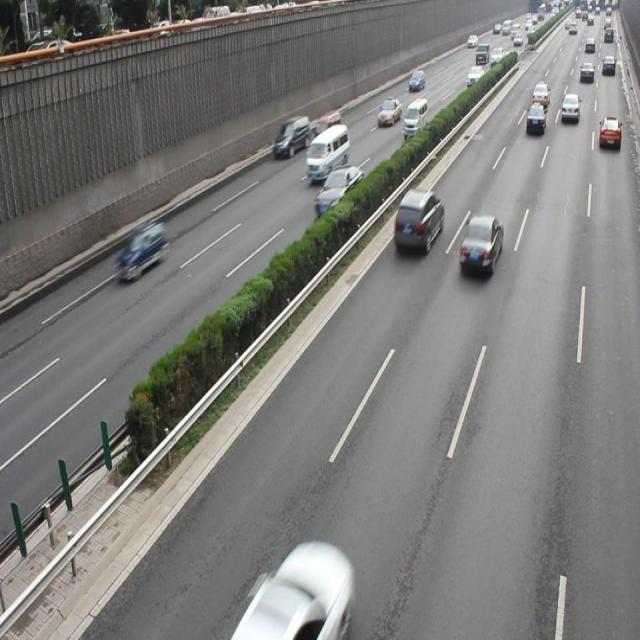car: (243, 541, 350, 640), (394, 187, 444, 254), (117, 220, 165, 278), (315, 164, 363, 218), (459, 213, 501, 274), (597, 114, 620, 150), (524, 103, 544, 135), (377, 98, 399, 126), (560, 91, 578, 121)
truck: (306, 123, 349, 183), (272, 114, 308, 160), (313, 110, 341, 146), (402, 98, 427, 138)
